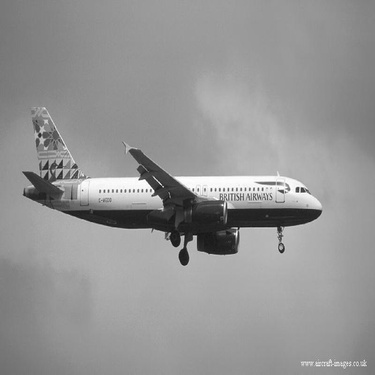airplane: (18, 98, 325, 270)
